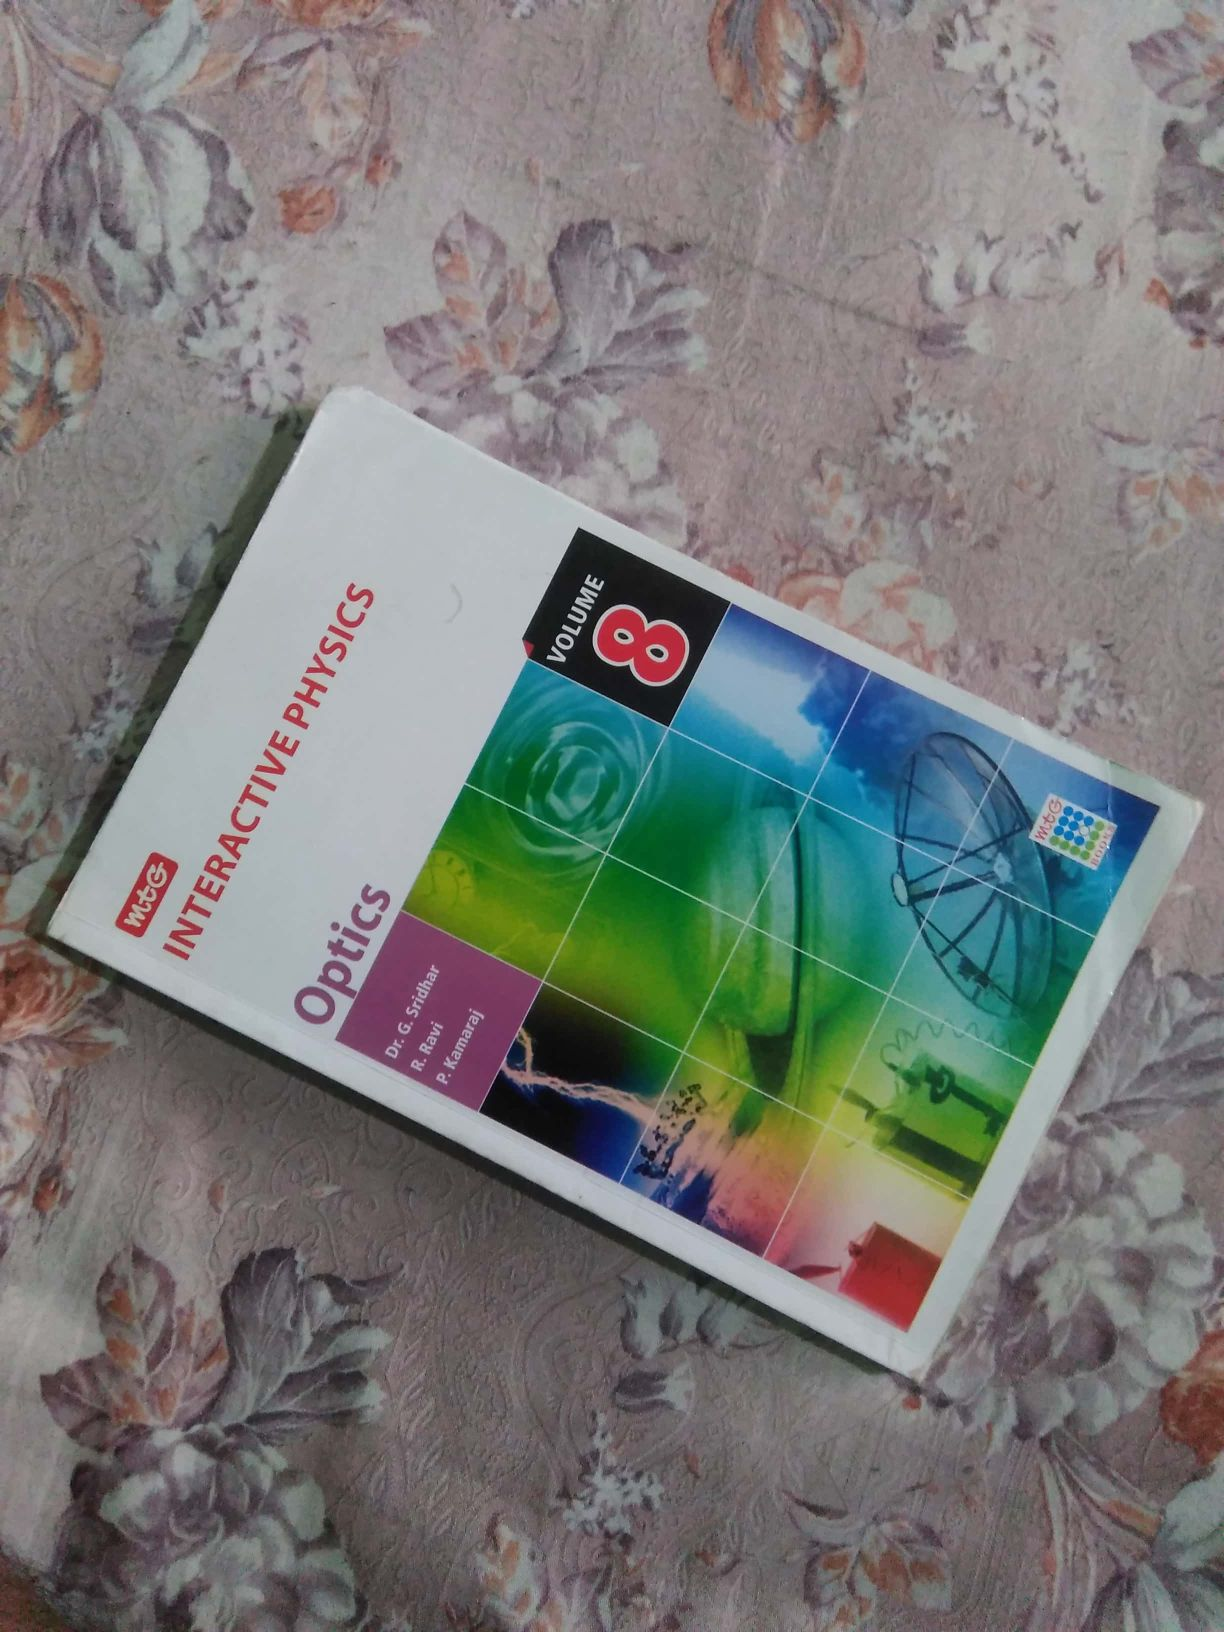optics: (87, 388, 1137, 1370)
